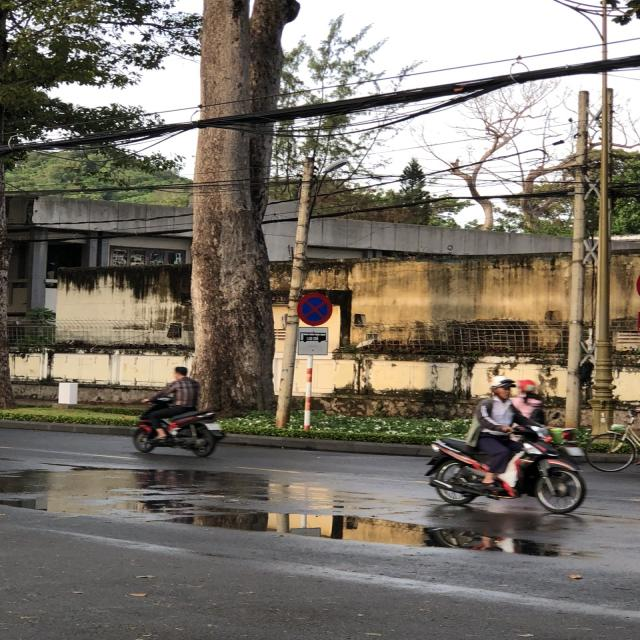Bien bao cam dung xe va do xe: (293, 290, 334, 326)
